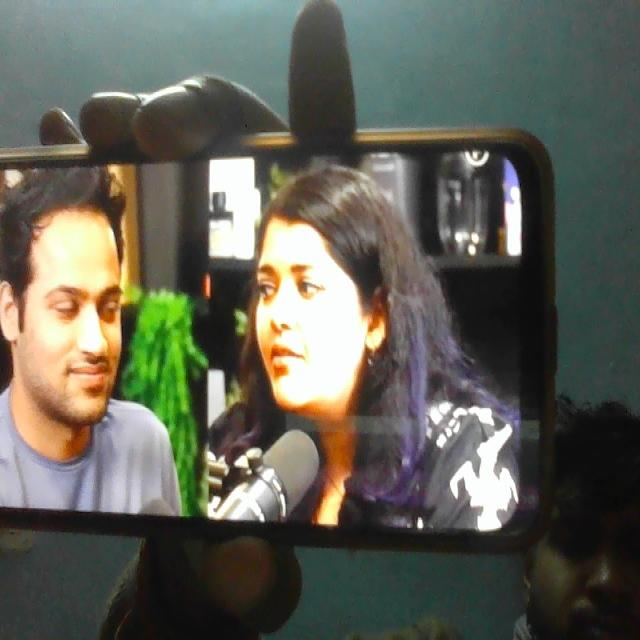fake: (236, 148, 386, 431), (0, 163, 141, 429)
